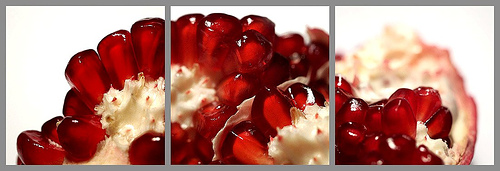pomogranate: (13, 12, 481, 166)
